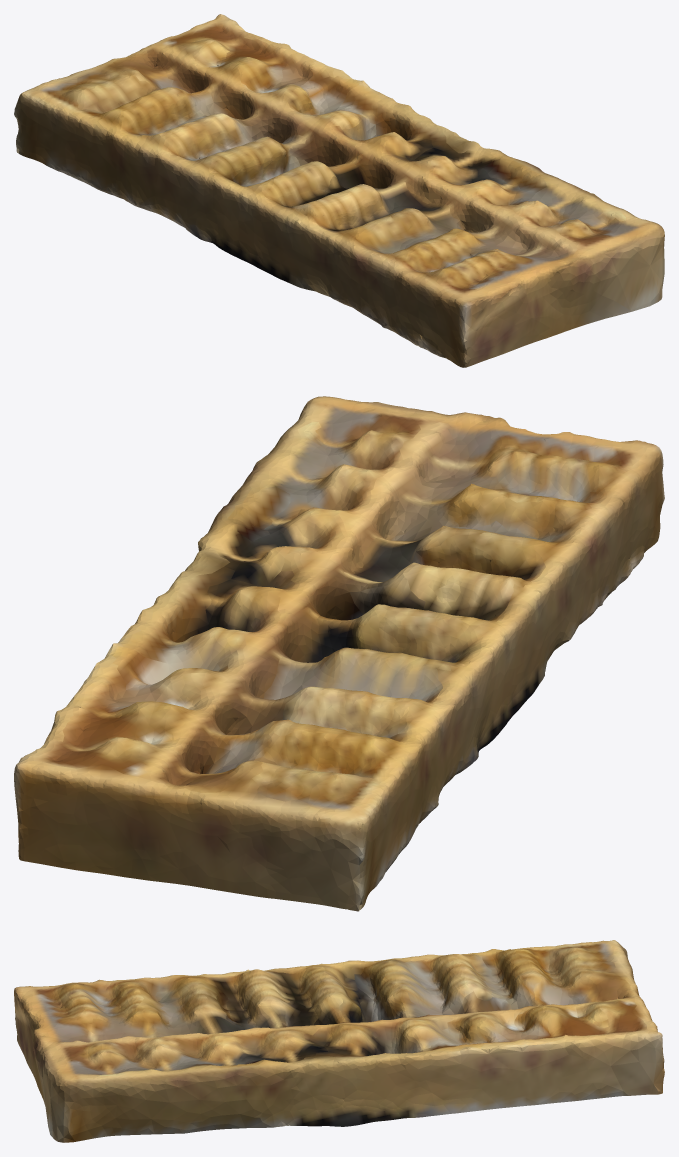
Rendered from 中国そろばん.glb.
3 views of the same model, one above another, from view 1: azimuth 30°, elevation 25°; view 2: azimuth 150°, elevation 25°; view 3: azimuth 270°, elevation 25° (orthographic). The views are drawn at different scales.
Parts seen in each view (by area): view 1: mesh; view 2: mesh; view 3: mesh.
Boxes of the visible parts, x1=… form: mesh: x1=14, y1=14, x2=664, y2=367; mesh: x1=14, y1=396, x2=664, y2=911; mesh: x1=14, y1=940, x2=664, y2=1142.
Bounding box in the file's own units: 0.1071 × 0.0223 × 0.1942.
1 material, 1 textured.
